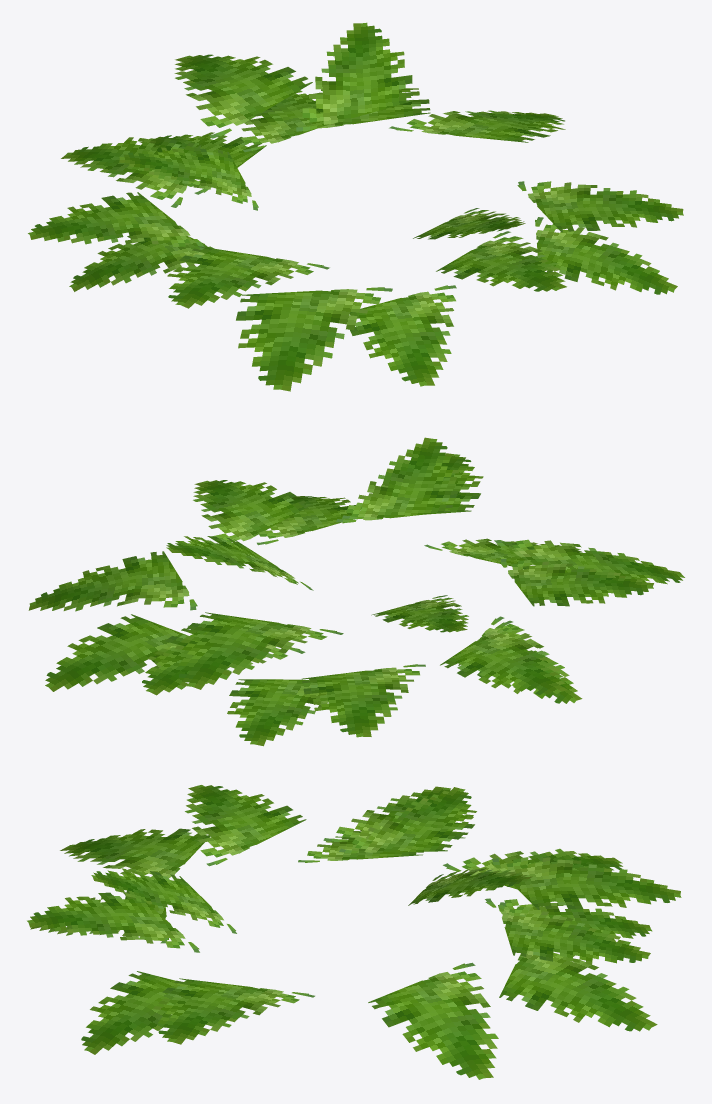
The model's file is fern-cluster.lod2.glb.
The picture shows the model from 3 angles, top to bottom: view 1: azimuth 30°, elevation 25°; view 2: azimuth 150°, elevation 25°; view 3: azimuth 270°, elevation 25°; orthographic projection. The views are drawn at different scales.
Visible parts, largest first — view 1: Object_6; view 2: Object_6; view 3: Object_6.
Boxes of the visible parts, left/top/right/bottom form: Object_6: left=28, top=22, right=683, bottom=391; Object_6: left=28, top=437, right=684, bottom=746; Object_6: left=27, top=785, right=681, bottom=1079.
Bounding box in the file's own units: 2.74 × 0.6579 × 2.86.
Materials: 1 (1 with a texture image).
